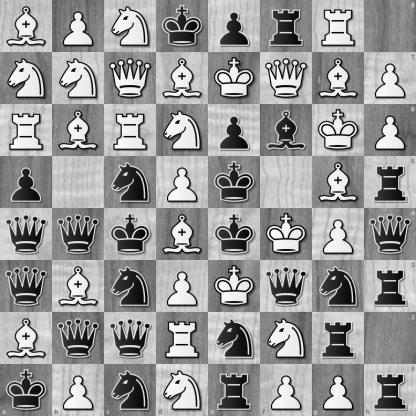B: (1, 1, 52, 52), (1, 313, 52, 364), (53, 105, 104, 156), (53, 261, 104, 312), (157, 53, 208, 104), (157, 209, 208, 260), (313, 53, 364, 104), (313, 157, 364, 208)
K: (209, 53, 260, 104), (209, 261, 260, 312), (261, 209, 312, 260), (313, 105, 364, 156)
N: (156, 364, 209, 416), (1, 53, 52, 104), (53, 53, 104, 104), (105, 1, 156, 52), (157, 105, 208, 156), (261, 313, 312, 364)
P: (52, 364, 104, 416), (260, 364, 312, 416), (312, 364, 364, 416), (364, 52, 416, 104), (364, 104, 416, 156), (53, 1, 104, 52), (157, 157, 208, 208), (157, 261, 208, 312), (313, 209, 364, 260)
Q: (105, 53, 156, 104), (261, 53, 312, 104)
R: (1, 105, 52, 156), (105, 105, 156, 156), (157, 313, 208, 364), (313, 1, 364, 52)
b: (261, 105, 312, 156)
board: (0, 0, 415, 415)
k: (0, 364, 52, 416), (105, 209, 156, 260), (157, 1, 208, 52), (209, 157, 260, 208), (209, 209, 260, 260)
n: (104, 364, 156, 416), (105, 157, 156, 208), (105, 261, 156, 312), (209, 313, 260, 364), (313, 261, 364, 312)
p: (1, 157, 52, 208), (209, 1, 260, 52), (209, 105, 260, 156)
q: (364, 209, 416, 260), (1, 209, 52, 260), (1, 261, 52, 312), (53, 209, 104, 260), (53, 313, 104, 364), (105, 313, 156, 364), (261, 261, 312, 312)
r: (364, 156, 416, 209), (364, 260, 416, 312), (364, 364, 416, 416), (209, 364, 260, 416), (261, 1, 312, 52), (313, 313, 364, 364)
